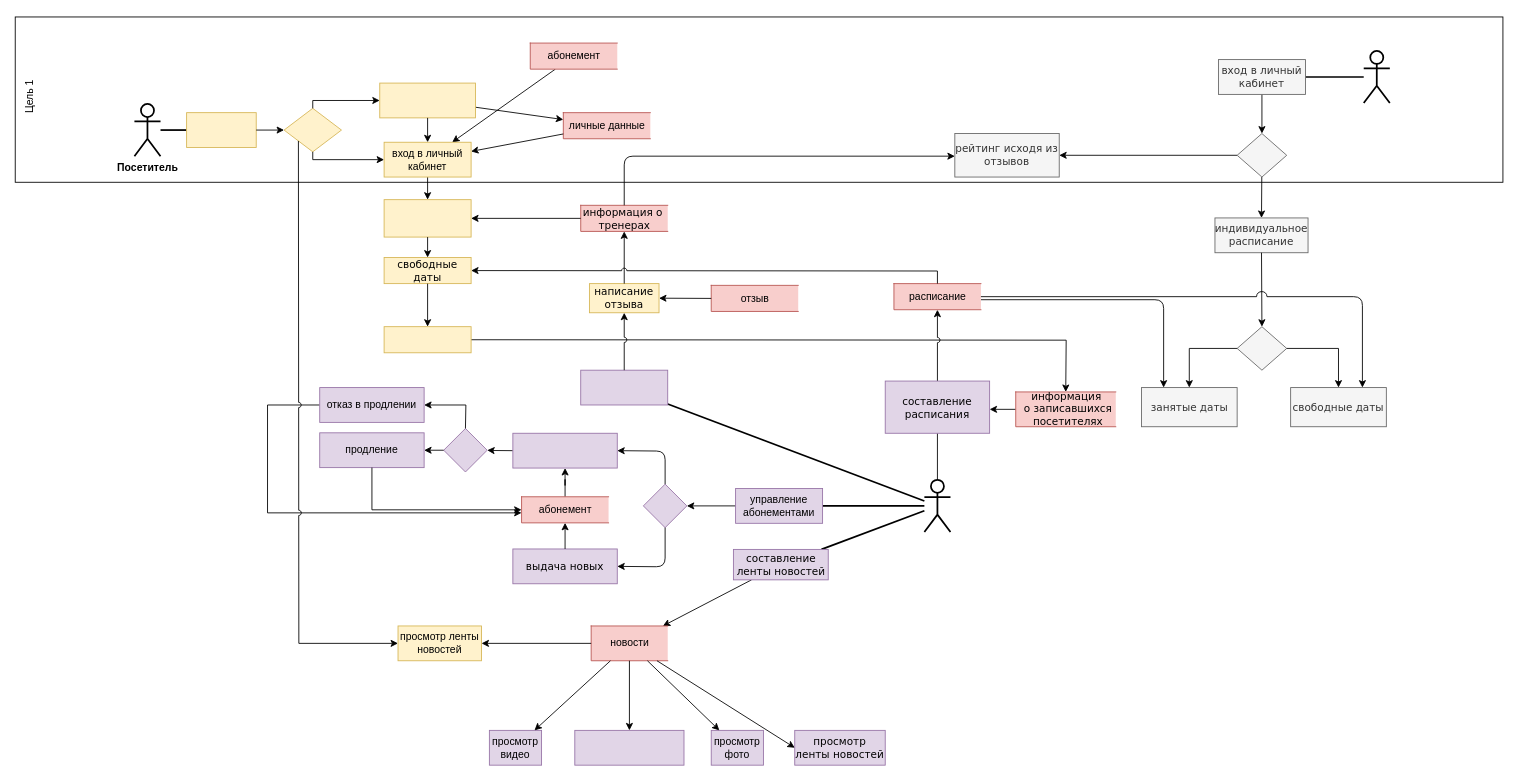
This 1518x780 diagram has some shape labels left out. Here are the shapes that lost their labels. From the top down, the centre of each, then its label:
At pixel 1376 77: "Тренер".
At pixel 427 100: "регистрация".
At pixel 221 129: "вход на сайт".
At pixel 427 218: "расписание тренировок".
At pixel 427 339: "запись на тренировку".
At pixel 624 387: "запрос отзыва".
At pixel 564 450: "продление старых".
At pixel 937 505: "Администратор".
At pixel 629 747: "просмотр спец.предложений".
